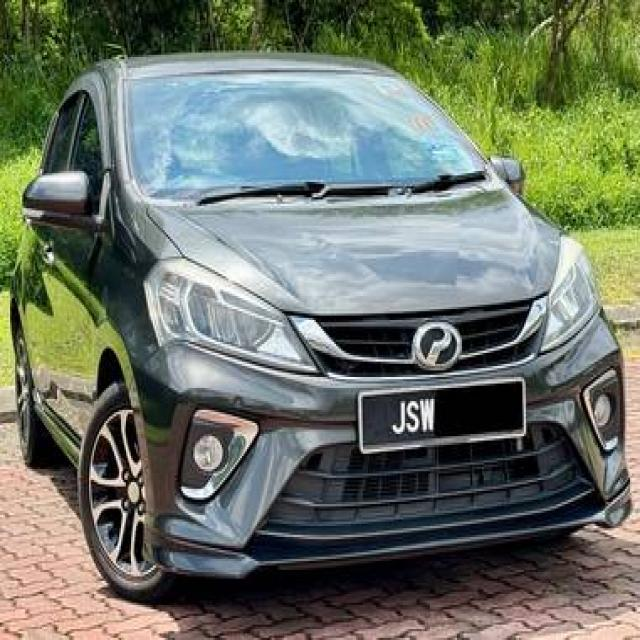PeroduaMyvi: (9, 46, 634, 603)
